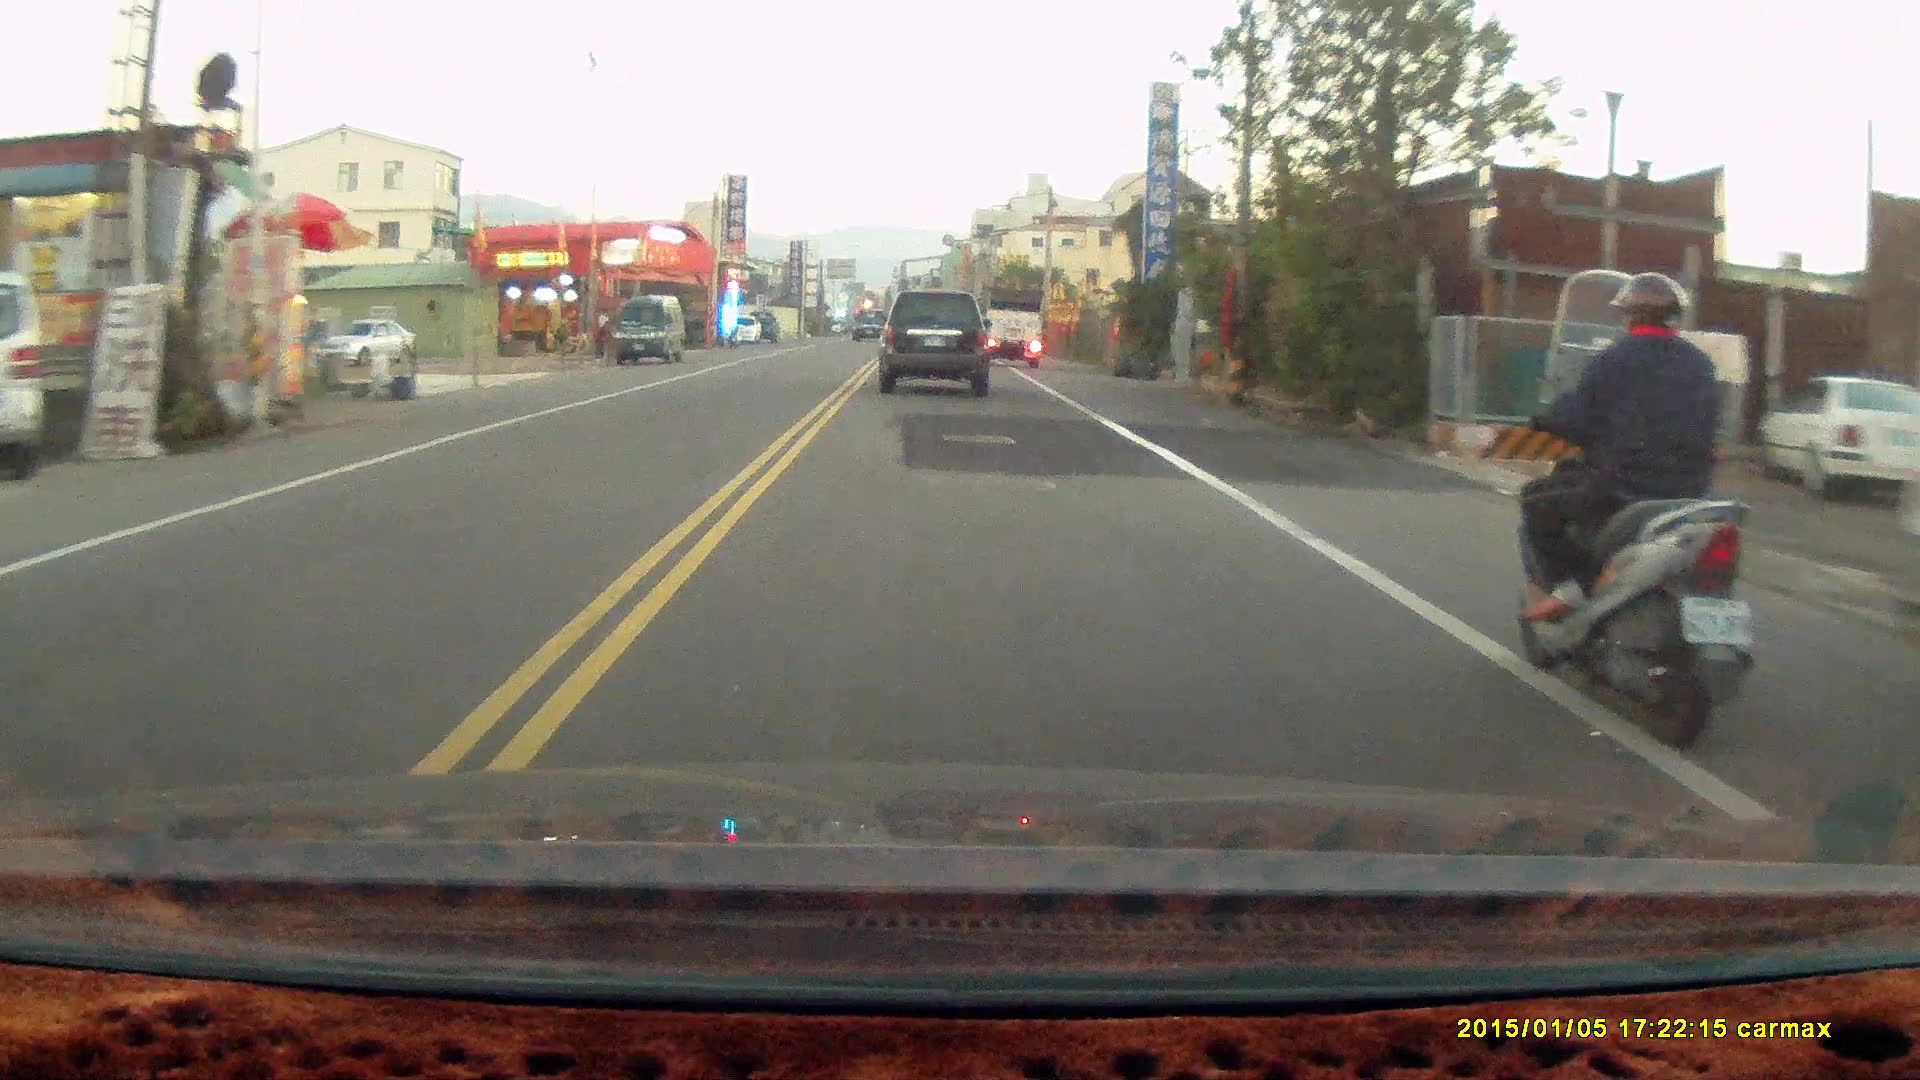rider: (1510, 265, 1756, 748)
vehicle: (879, 290, 994, 401), (613, 298, 685, 369), (984, 286, 1046, 367), (318, 318, 417, 366)
